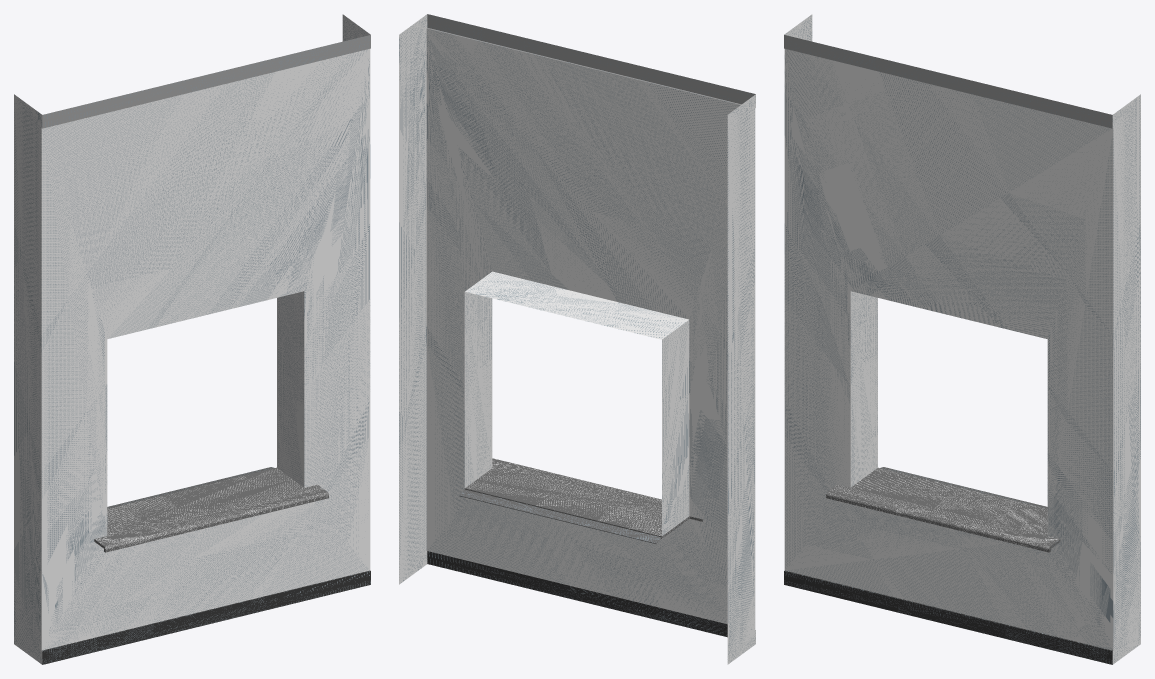
File: WindowBlock_os_plinth_[250x400]_150x143x[080].dae
3 renders of one model, left to right at view 1: azimuth 30°, elevation 25°; view 2: azimuth 150°, elevation 25°; view 3: azimuth 330°, elevation 25°, orthographic.
Visible parts, largest first — view 1: group_2 (×4), group_1; view 2: group_2 (×4), group_1 (×2); view 3: group_2 (×4), group_1.
Boxes of the visible parts, x1=… form: group_2 (×4): x1=14, y1=14, x2=370, y2=664; group_1: x1=94, y1=467, x2=328, y2=552; group_2 (×4): x1=399, y1=14, x2=755, y2=664; group_1 (×2): x1=459, y1=458, x2=702, y2=543; group_2 (×4): x1=784, y1=14, x2=1140, y2=664; group_1: x1=826, y1=467, x2=1060, y2=552.
Size of the model in its own units: 98.43 by 23.03 by 157.
